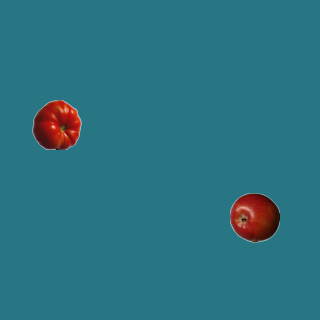Apple Braeburn: (229, 192, 279, 242)
Tomato 3: (31, 99, 81, 149)
